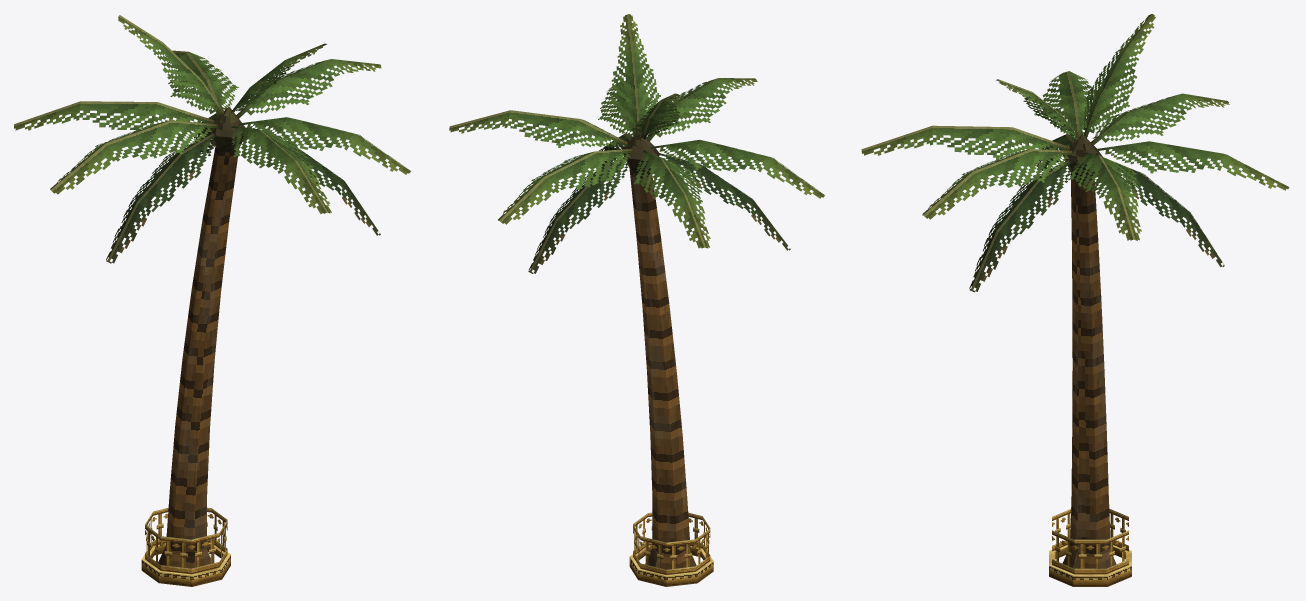
The model's file is env_tree_rich.glb.
3 views of the same model, side by side, from view 1: azimuth 30°, elevation 25°; view 2: azimuth 150°, elevation 25°; view 3: azimuth 270°, elevation 25° (orthographic). The views are drawn at different scales.
Parts seen in each view (by area): view 1: env_tree_rich; view 2: env_tree_rich; view 3: env_tree_rich.
Part boxes in pixels (<box>): env_tree_rich: <box>14,15,410,586</box>; env_tree_rich: <box>449,14,824,586</box>; env_tree_rich: <box>861,14,1289,586</box>.
Size of the model in its own units: 0.0188 by 0.0264 by 0.0191.
3 materials, 3 textured.
